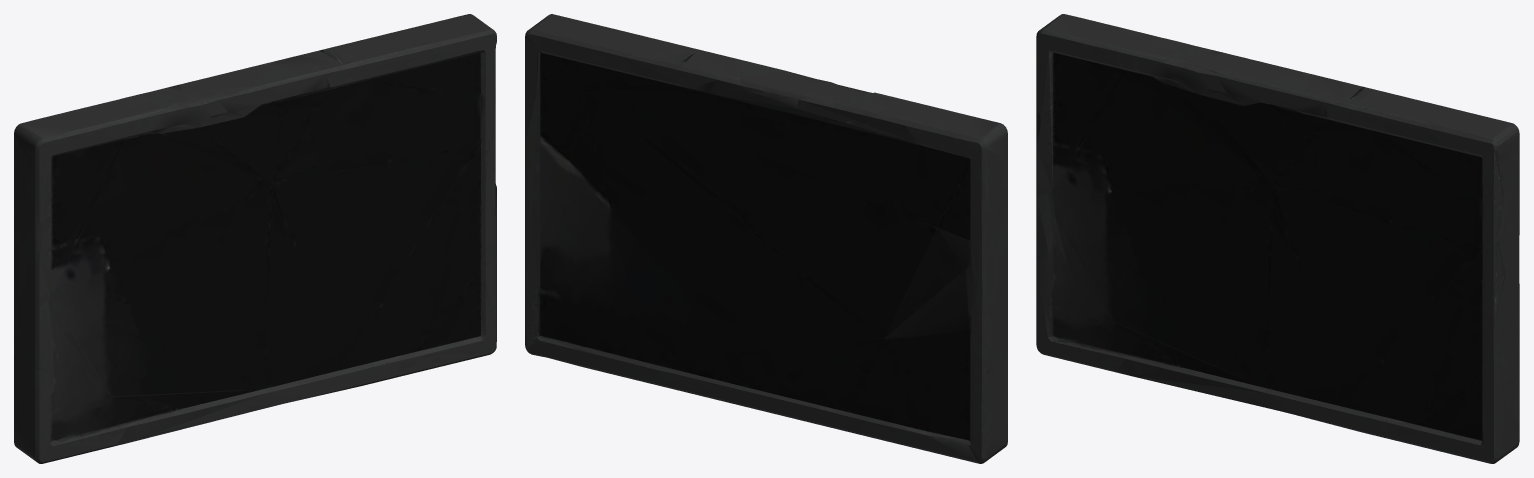
File: wall_tv.glb
3 views of the same model, side by side, from view 1: azimuth 30°, elevation 25°; view 2: azimuth 150°, elevation 25°; view 3: azimuth 330°, elevation 25° (orthographic).
Visible parts, largest first — view 1: 0; view 2: 0; view 3: 0.
Part boxes in pixels (x1=…): 0: x1=14, y1=14, x2=496, y2=463; 0: x1=525, y1=14, x2=1007, y2=463; 0: x1=1036, y1=14, x2=1519, y2=463.
Bounding box in the file's own units: 1.2 × 0.808 × 0.1111.
Materials: 1 (1 with a texture image).
